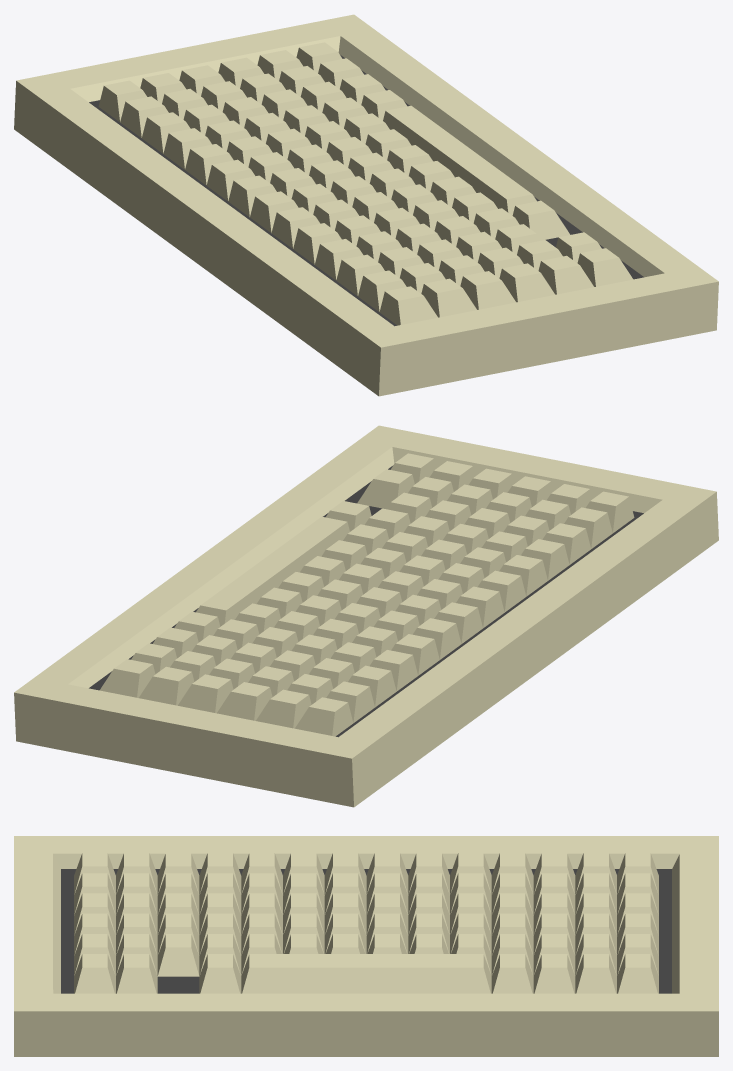
File: Keyboard.fbx
3 renders of one model, top to bottom at view 1: azimuth 30°, elevation 25°; view 2: azimuth 150°, elevation 25°; view 3: azimuth 270°, elevation 25°, orthographic. The views are drawn at different scales.
Visible parts, largest first — view 1: Cube.006; view 2: Cube.006; view 3: Cube.006.
Part boxes in pixels (x1,y1,x2,y2): Cube.006: (14,14,718,396); Cube.006: (14,425,718,807); Cube.006: (14,836,718,1056).
Bounding box in the file's own units: 108 × 22.01 × 200.
